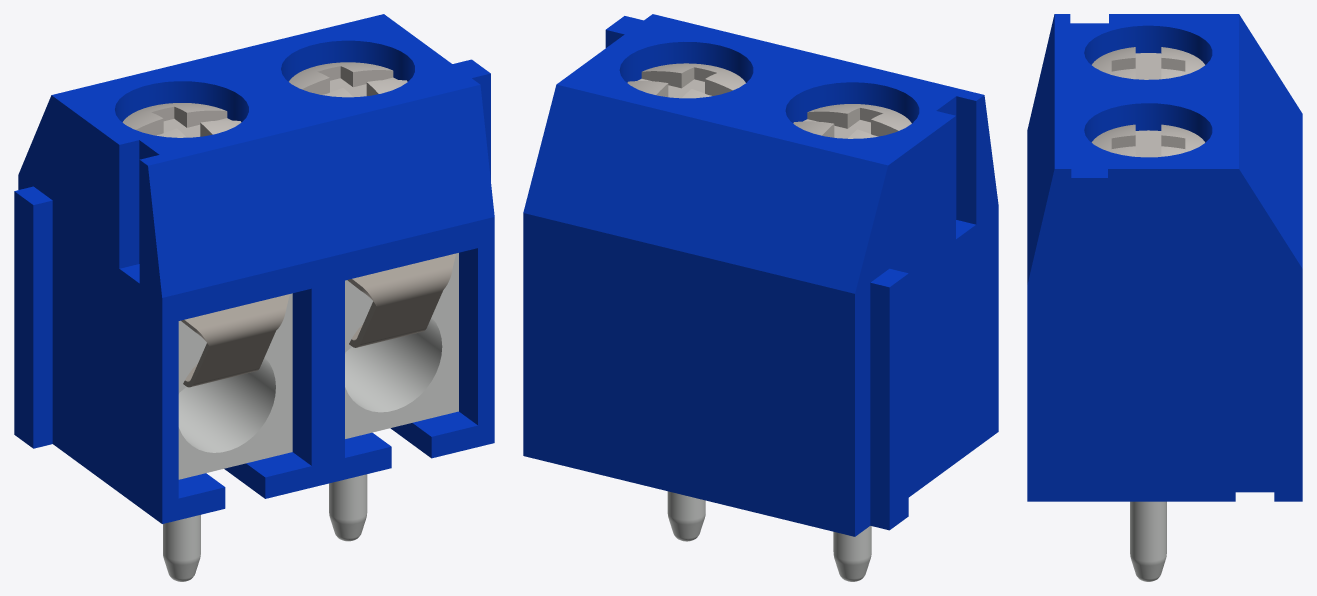
Rendered from Blue Connector (2-Pin).obj.
The picture shows the model from 3 angles, left to right: view 1: azimuth 30°, elevation 25°; view 2: azimuth 150°, elevation 25°; view 3: azimuth 270°, elevation 25°; orthographic projection. The views are drawn at different scales.
Visible parts, largest first — view 1: Solid1, Solid6, Solid7, Solid5, Solid4, Solid2, Solid3; view 2: Solid1, Solid2, Solid3, Solid6, Solid7; view 3: Solid1, Solid7, Solid2, Solid3.
Part boxes in pixels (box(x1,y1,x2,y2)): Solid1: box(14, 14, 494, 523); Solid6: box(163, 293, 292, 581); Solid7: box(329, 253, 458, 541); Solid5: box(347, 253, 455, 347); Solid4: box(181, 294, 289, 387); Solid2: box(289, 62, 407, 97); Solid3: box(122, 103, 241, 137); Solid1: box(523, 14, 998, 536); Solid2: box(627, 63, 745, 98); Solid3: box(793, 104, 911, 138); Solid6: box(833, 526, 871, 581); Solid7: box(667, 491, 705, 541); Solid1: box(1027, 14, 1302, 501); Solid7: box(1130, 501, 1166, 581); Solid2: box(1091, 124, 1205, 157); Solid3: box(1092, 47, 1204, 79).
Bounding box in the file's own units: 11.16 × 13.5 × 7.5.
